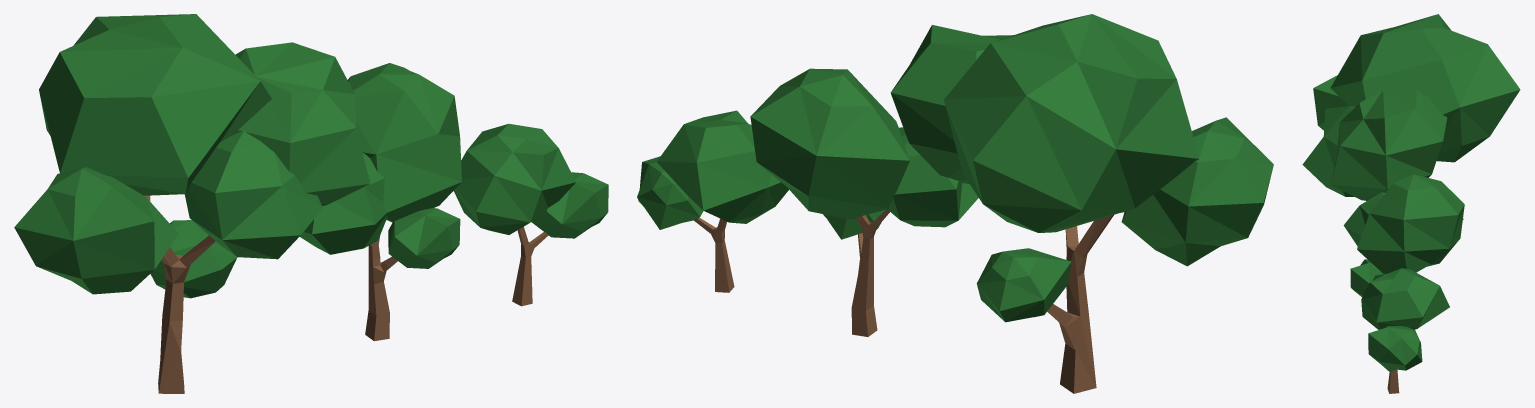
The model's file is trees (3).fbx.
The picture shows the model from 3 angles, left to right: view 1: azimuth 30°, elevation 25°; view 2: azimuth 150°, elevation 25°; view 3: azimuth 270°, elevation 25°; orthographic projection. The views are drawn at different scales.
Visible parts, largest first — view 1: large tree, medium tree, small tree; view 2: large tree, medium tree, small tree; view 3: large tree, medium tree, small tree.
Boxes of the visible parts, left/top/right/bottom form: large tree: left=14, top=14, right=370, bottom=393; medium tree: left=299, top=63, right=461, bottom=341; small tree: left=454, top=123, right=608, bottom=306; large tree: left=890, top=14, right=1273, bottom=393; medium tree: left=750, top=68, right=978, bottom=336; small tree: left=637, top=110, right=788, bottom=292; large tree: left=1302, top=14, right=1520, bottom=219; medium tree: left=1343, top=174, right=1464, bottom=296; small tree: left=1361, top=268, right=1449, bottom=393.
Bounding box in the file's own units: 1322 × 761 × 602.
